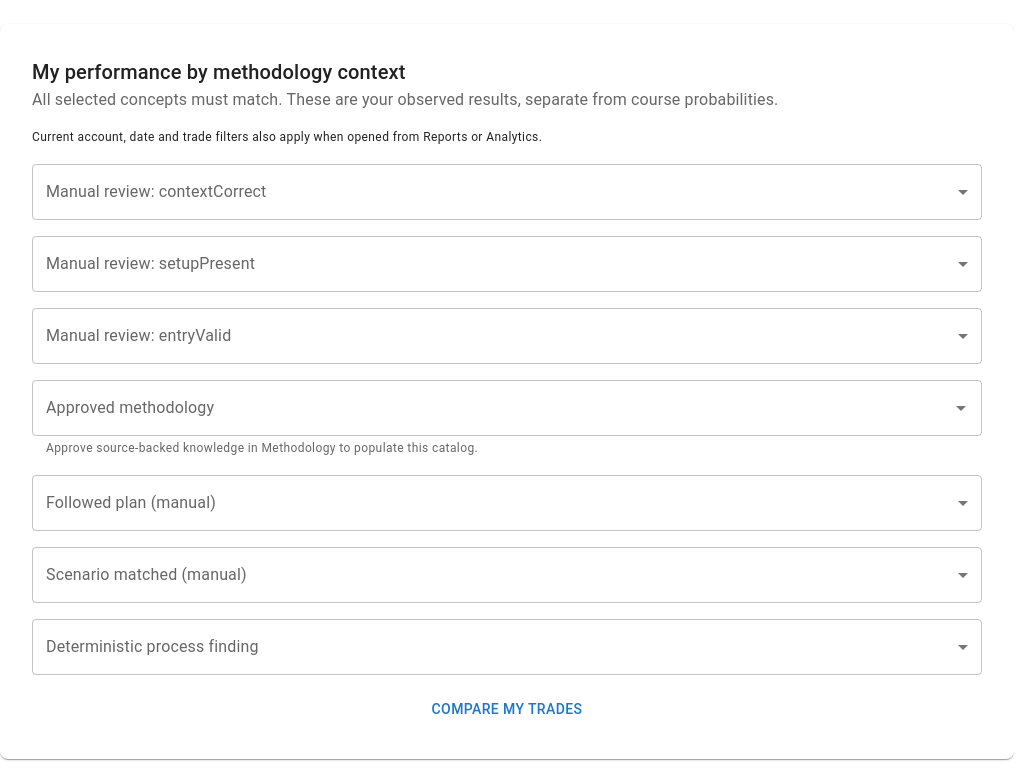
Test case: analytics error is explicit and old results clear when account filters change
The image size is (1024, 768).
Click the button "Compare my trades" at (507, 709), box [32, 691, 982, 727]
(page scrolled)
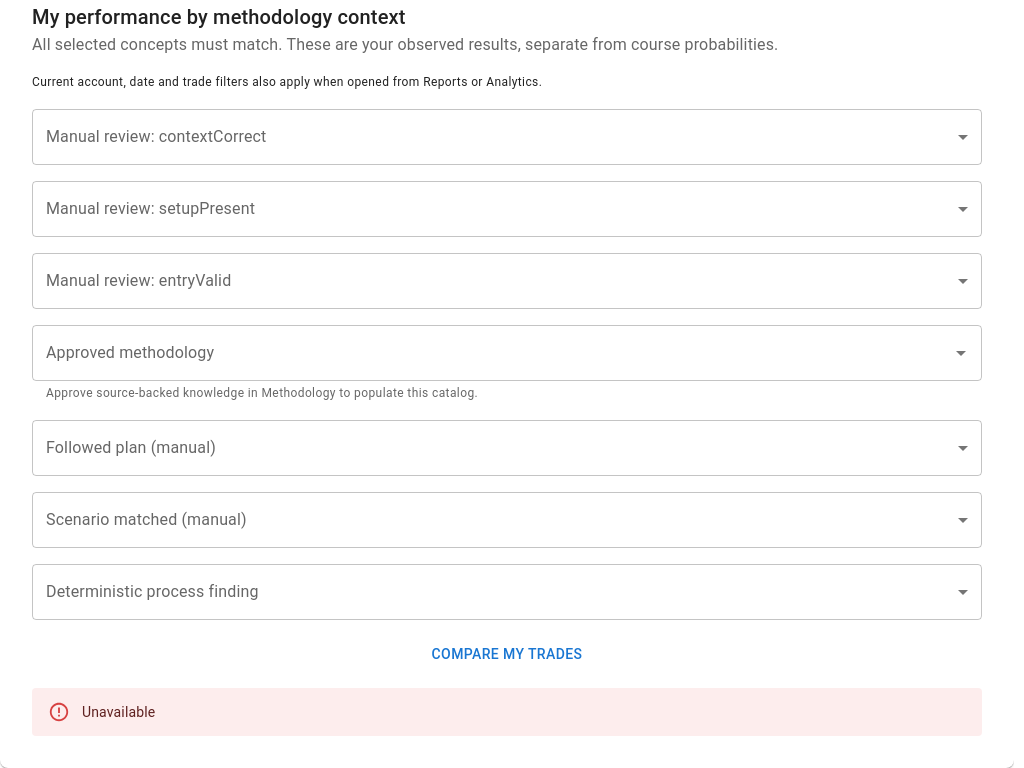
expect the text "Unavailable" is shown: met, box [82, 704, 155, 720]
